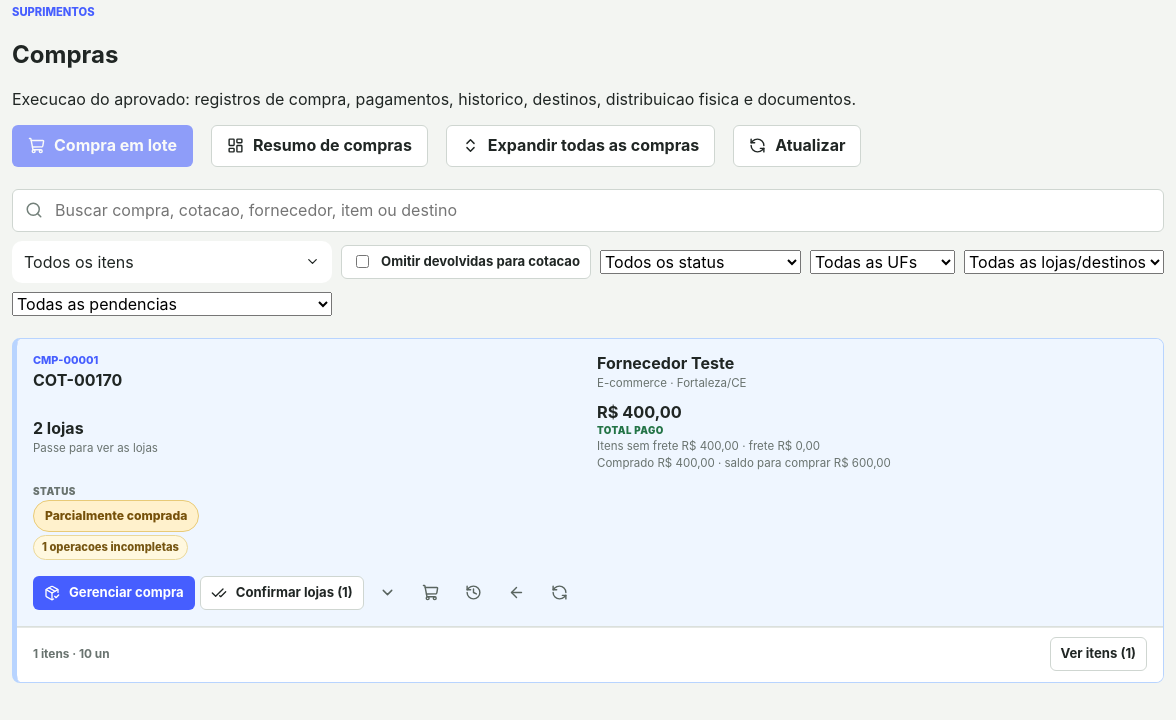
SupplyPurchasesPage V2 › mantem a compra recolhida compacta e mostra os itens sob demanda
Check: the text "CMP-00001" is shown, box 33,353 -> 98,367
Check: the text "1 itens · 10 un" is shown, box 33,646 -> 110,660
Click the button "Ver itens (1)".
click(1098, 654)  # box 1050,636 -> 1147,670
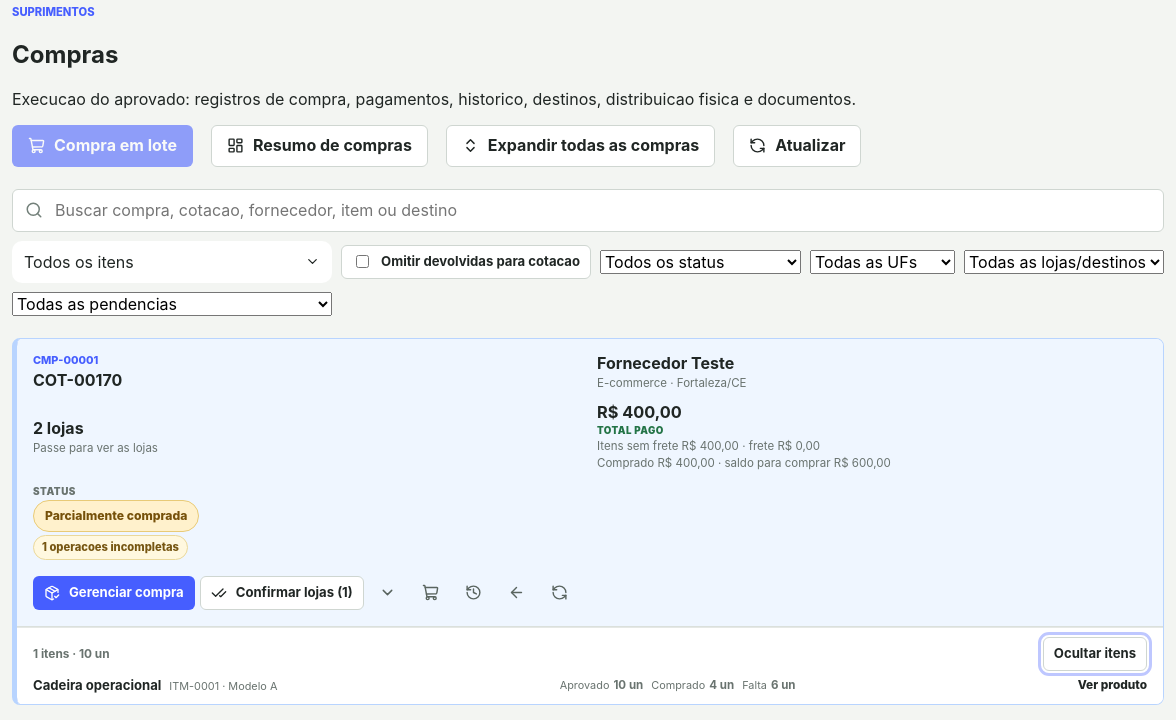
Check: the text "Cadeira operacional" is shown, box 33,676 -> 161,692
